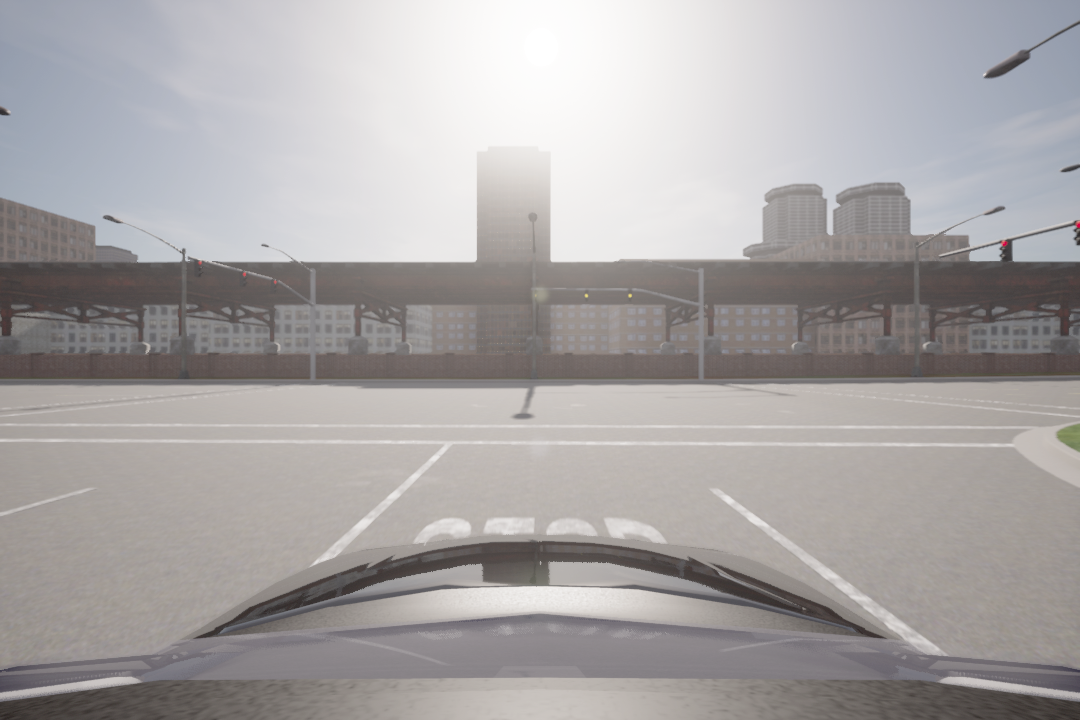TrafficLight: (995, 237, 1014, 264), (1072, 219, 1080, 250), (238, 268, 248, 287), (194, 257, 203, 277), (270, 276, 278, 293), (582, 287, 590, 303), (626, 287, 634, 301)
